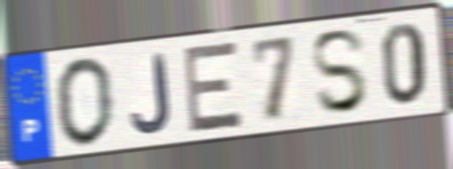0: (379, 20, 428, 110)
7: (250, 32, 299, 127)
E: (182, 38, 246, 137)
J: (129, 50, 174, 137)
O: (52, 54, 117, 150)
S: (308, 26, 372, 118)
